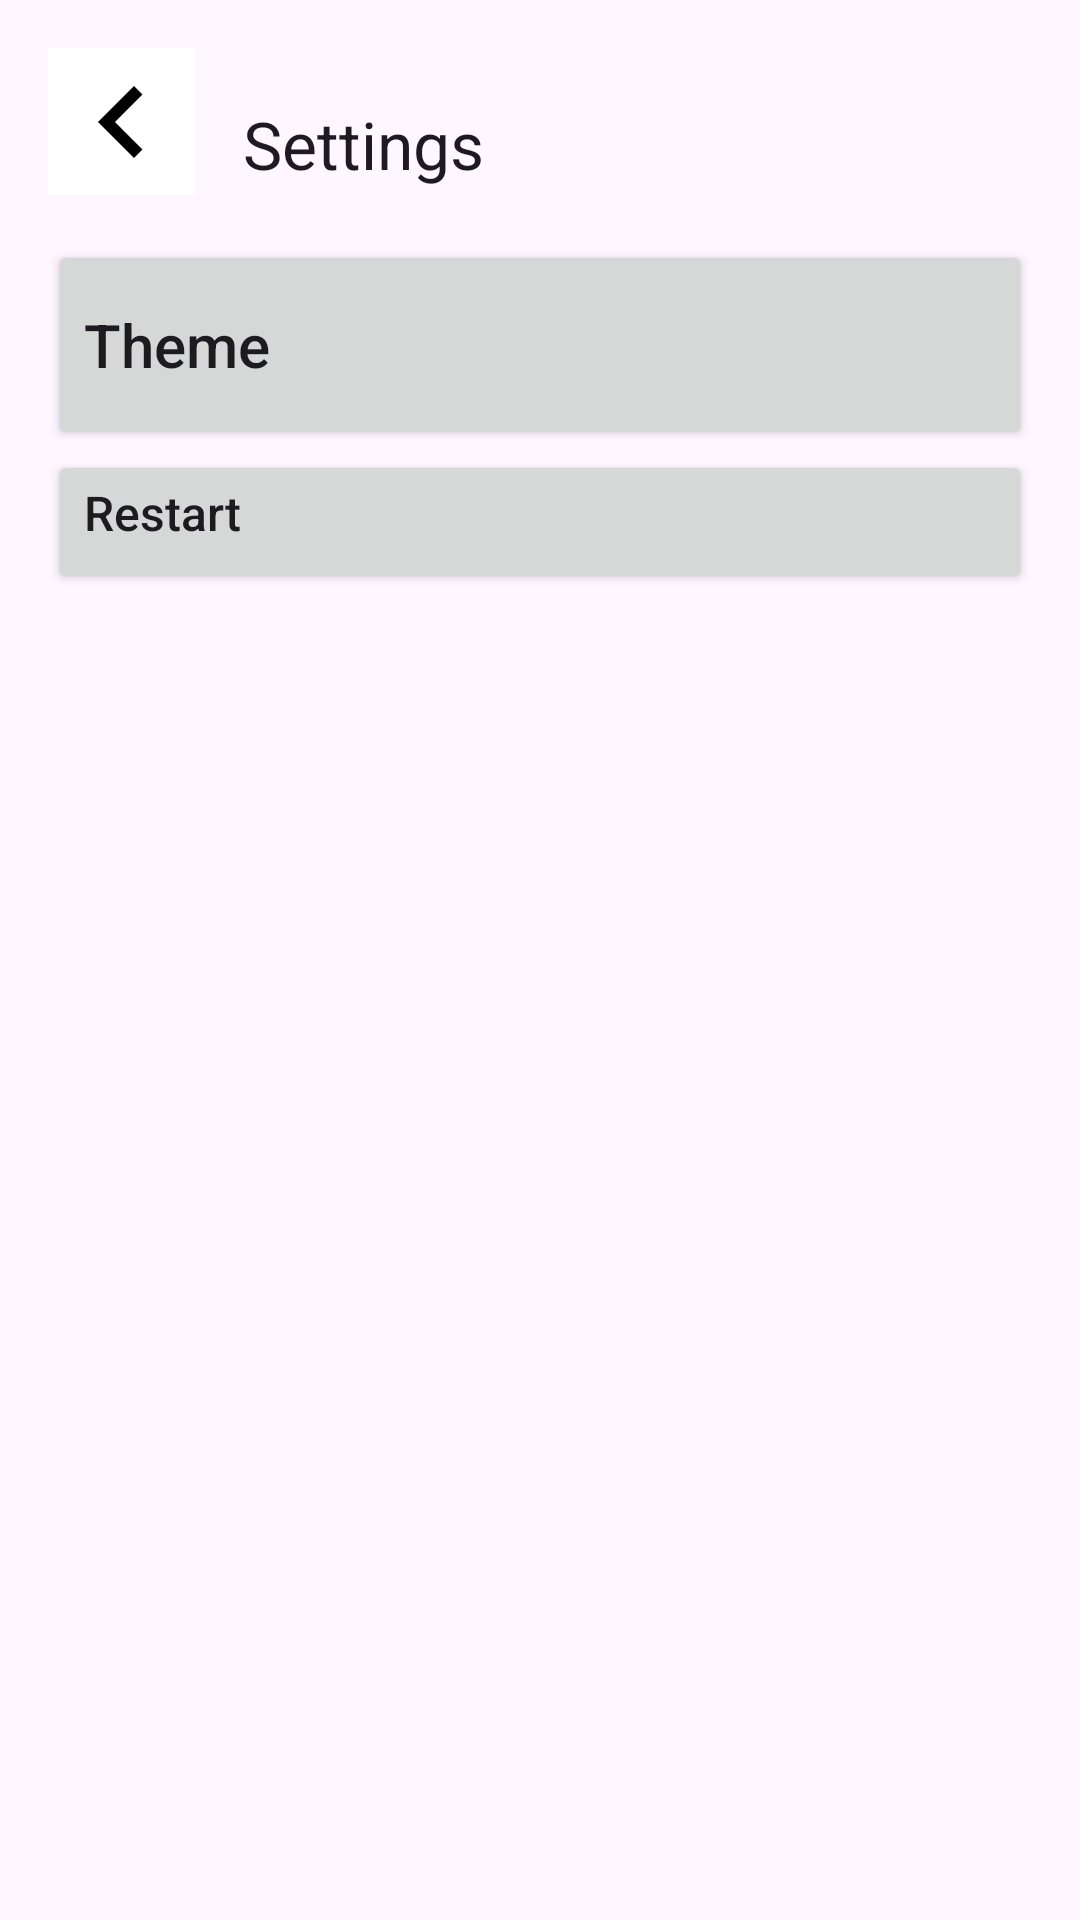

Icons on this 1080 × 1920 Android screen, each with the point to tap as [x,y]:
chevron left: [120,122]
